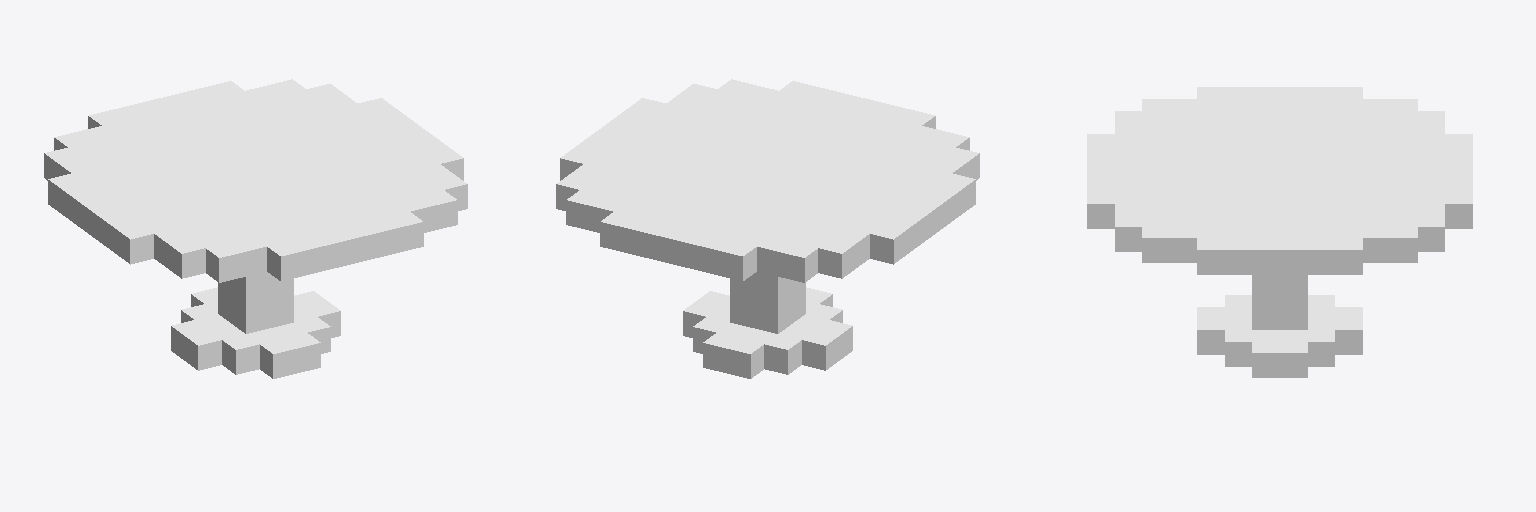
File: table_2.obj
3 renders of one model, left to right at view 1: azimuth 30°, elevation 25°; view 2: azimuth 150°, elevation 25°; view 3: azimuth 270°, elevation 25°, orthographic.
Parts seen in each view (by area): view 1: object 1; view 2: object 1; view 3: object 1.
Part boxes in pixels (x1,y1,x2,y2): object 1: (44,79,467,378); object 1: (556,79,979,378); object 1: (1087,87,1472,377).
Size of the model in its own units: 1.4 by 0.7 by 1.4.